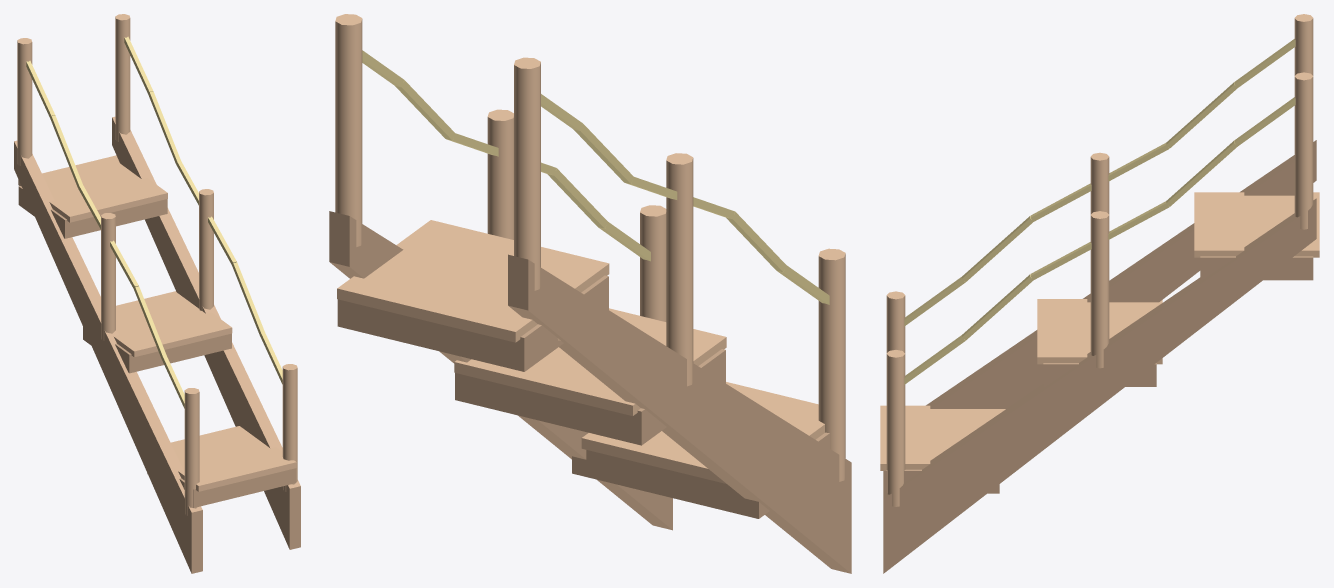
Rendered from stairCabin.glb.
3 views of the same model, side by side, from view 1: azimuth 30°, elevation 25°; view 2: azimuth 150°, elevation 25°; view 3: azimuth 270°, elevation 25° (orthographic). The views are drawn at different scales.
Visible parts, largest first — view 1: stairCabin; view 2: stairCabin; view 3: stairCabin.
Boxes of the visible parts, x1,y1,x2,y2 form: stairCabin: (14,14,300,573); stairCabin: (329,14,851,573); stairCabin: (880,14,1319,573).
Size of the model in its own units: 0.5 by 1.74 by 1.4.
